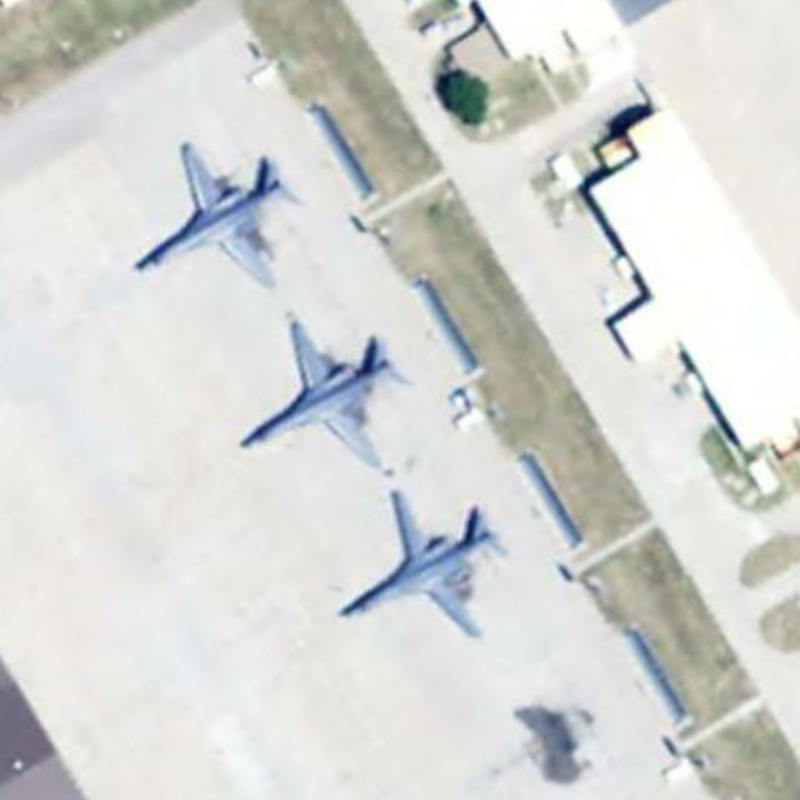A10: (132, 127, 309, 299), (229, 312, 409, 475), (340, 480, 514, 646)
